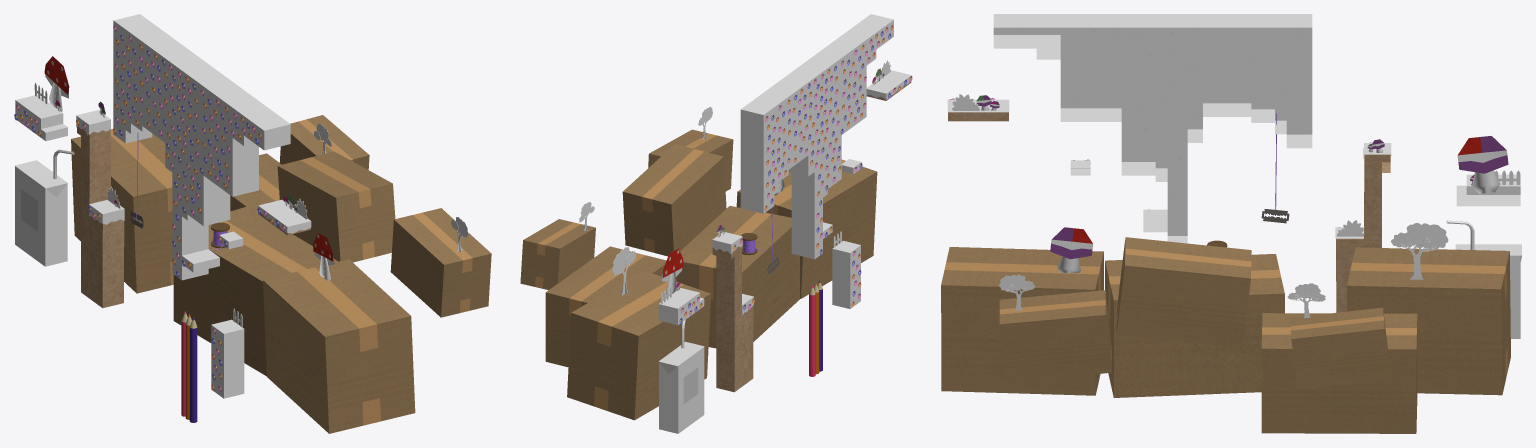
The model's file is Pantalla7-DEF.fbx.
The picture shows the model from 3 angles, left to right: view 1: azimuth 30°, elevation 25°; view 2: azimuth 150°, elevation 25°; view 3: azimuth 270°, elevation 25°; orthographic projection. The views are drawn at different scales.
Visible parts, largest first — view 1: Screen7, Caja_1.005, Cube.003, Caja_1.007, Caja_1.002, Caja_1.006, Screen7.001, Caja_1.008, Cylinder.002, Caja_1.003, Plane.070, Plane.071 (+1 smaller); view 2: Screen7, Caja_1.002, Caja_1.007, Cube.003, Caja_1.005, Caja_1.003, Caja_1.008, Screen7.001, Caja_1.006, Cylinder.002, Plane.070, 6641865 (+1 smaller); view 3: Screen7, Caja_1.002, Caja_1.005, Caja_1.007, Caja_1.003, Cube.003, Caja_1.006, Caja_1.008, Plane.070, Screen7.001, Plane.071, Arbol2.005.
Boxes of the visible parts, x1,y1,x2,y2 form: Screen7: (15, 14, 311, 398); Caja_1.005: (263, 259, 415, 433); Cube.003: (173, 206, 337, 376); Caja_1.007: (277, 151, 395, 262); Caja_1.002: (71, 129, 173, 293); Caja_1.006: (390, 208, 491, 317); Screen7.001: (15, 149, 74, 266); Caja_1.008: (279, 115, 369, 169); Cylinder.002: (181, 311, 197, 422); Caja_1.003: (230, 153, 281, 213); Plane.070: (44, 56, 69, 111); Plane.071: (313, 233, 334, 281); Screen7: (658, 14, 911, 392); Caja_1.002: (567, 270, 711, 420); Caja_1.007: (622, 144, 726, 256); Cube.003: (676, 206, 799, 348); Caja_1.005: (736, 159, 877, 298); Caja_1.003: (545, 246, 666, 367); Caja_1.008: (520, 219, 595, 290); Screen7.001: (658, 319, 704, 433); Caja_1.006: (648, 129, 733, 191); Cylinder.002: (809, 280, 822, 376); Plane.070: (662, 248, 683, 297); 6641865: (683, 367, 698, 403); Screen7: (947, 14, 1520, 312); Caja_1.002: (1347, 247, 1510, 395); Caja_1.005: (941, 247, 1103, 395); Caja_1.007: (1116, 237, 1251, 347); Caja_1.003: (1261, 313, 1417, 433); Cube.003: (1105, 254, 1284, 397); Caja_1.006: (999, 290, 1111, 381); Caja_1.008: (1289, 307, 1390, 389); Plane.070: (1457, 136, 1508, 193); Screen7.001: (1446, 220, 1521, 338); Plane.071: (1050, 227, 1093, 272); Arbol2.005: (1391, 223, 1448, 249).
Bounding box in the file's own units: 4506 × 6062 × 8630.
